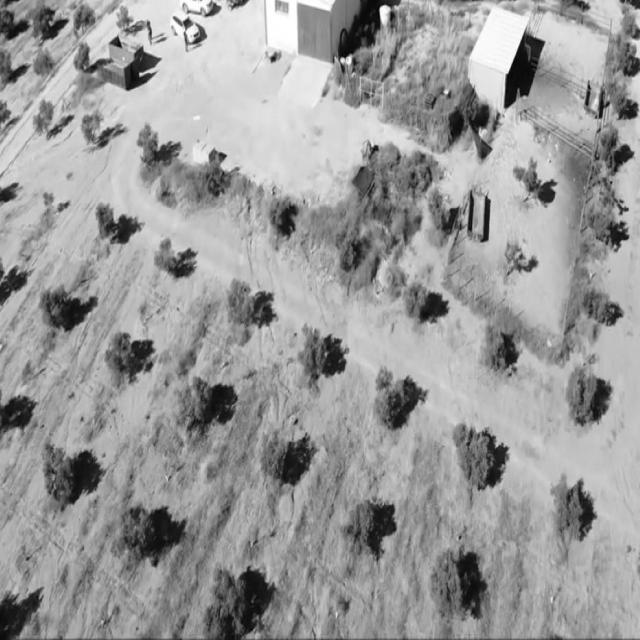trees: (104, 474, 164, 578), (199, 546, 259, 640), (420, 536, 471, 629), (32, 430, 82, 517), (544, 471, 592, 560), (448, 412, 498, 497), (560, 351, 604, 434), (289, 319, 336, 390), (338, 491, 381, 567), (369, 354, 416, 422), (169, 365, 214, 434), (576, 270, 618, 340), (222, 267, 264, 335), (97, 318, 138, 386), (330, 206, 368, 279), (30, 276, 73, 337), (260, 186, 304, 245), (254, 423, 296, 483), (584, 198, 624, 258), (476, 315, 515, 375), (592, 111, 626, 176), (401, 267, 435, 325), (144, 231, 183, 280), (451, 79, 478, 140), (132, 118, 162, 172), (511, 154, 542, 205), (602, 72, 633, 121), (424, 183, 454, 233), (197, 148, 225, 200), (78, 102, 108, 148), (33, 89, 58, 141), (501, 236, 528, 284), (95, 197, 117, 246), (616, 1, 640, 40), (70, 37, 92, 78), (32, 0, 54, 36), (70, 1, 94, 34), (32, 44, 52, 82), (615, 37, 635, 69)
